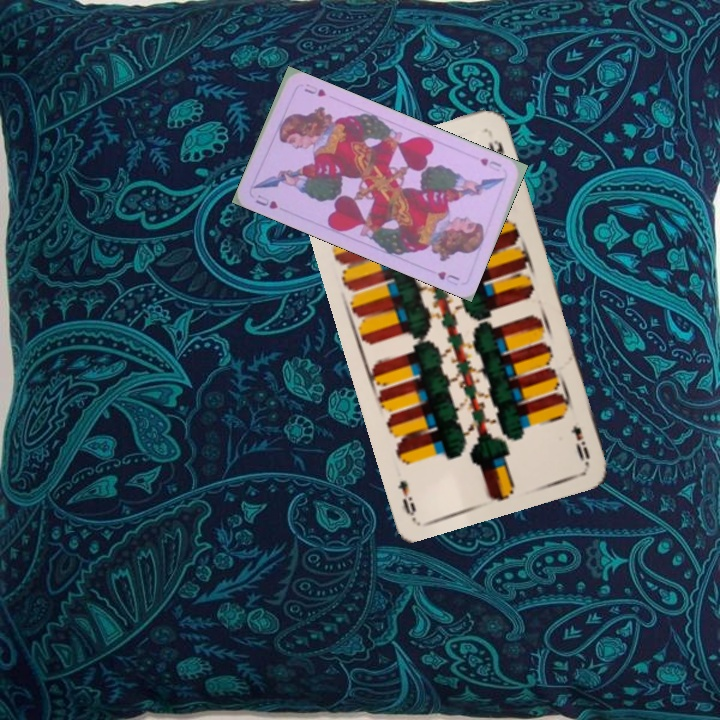E9: (566, 421, 593, 466)
HU: (251, 190, 281, 212), (475, 153, 504, 174)
